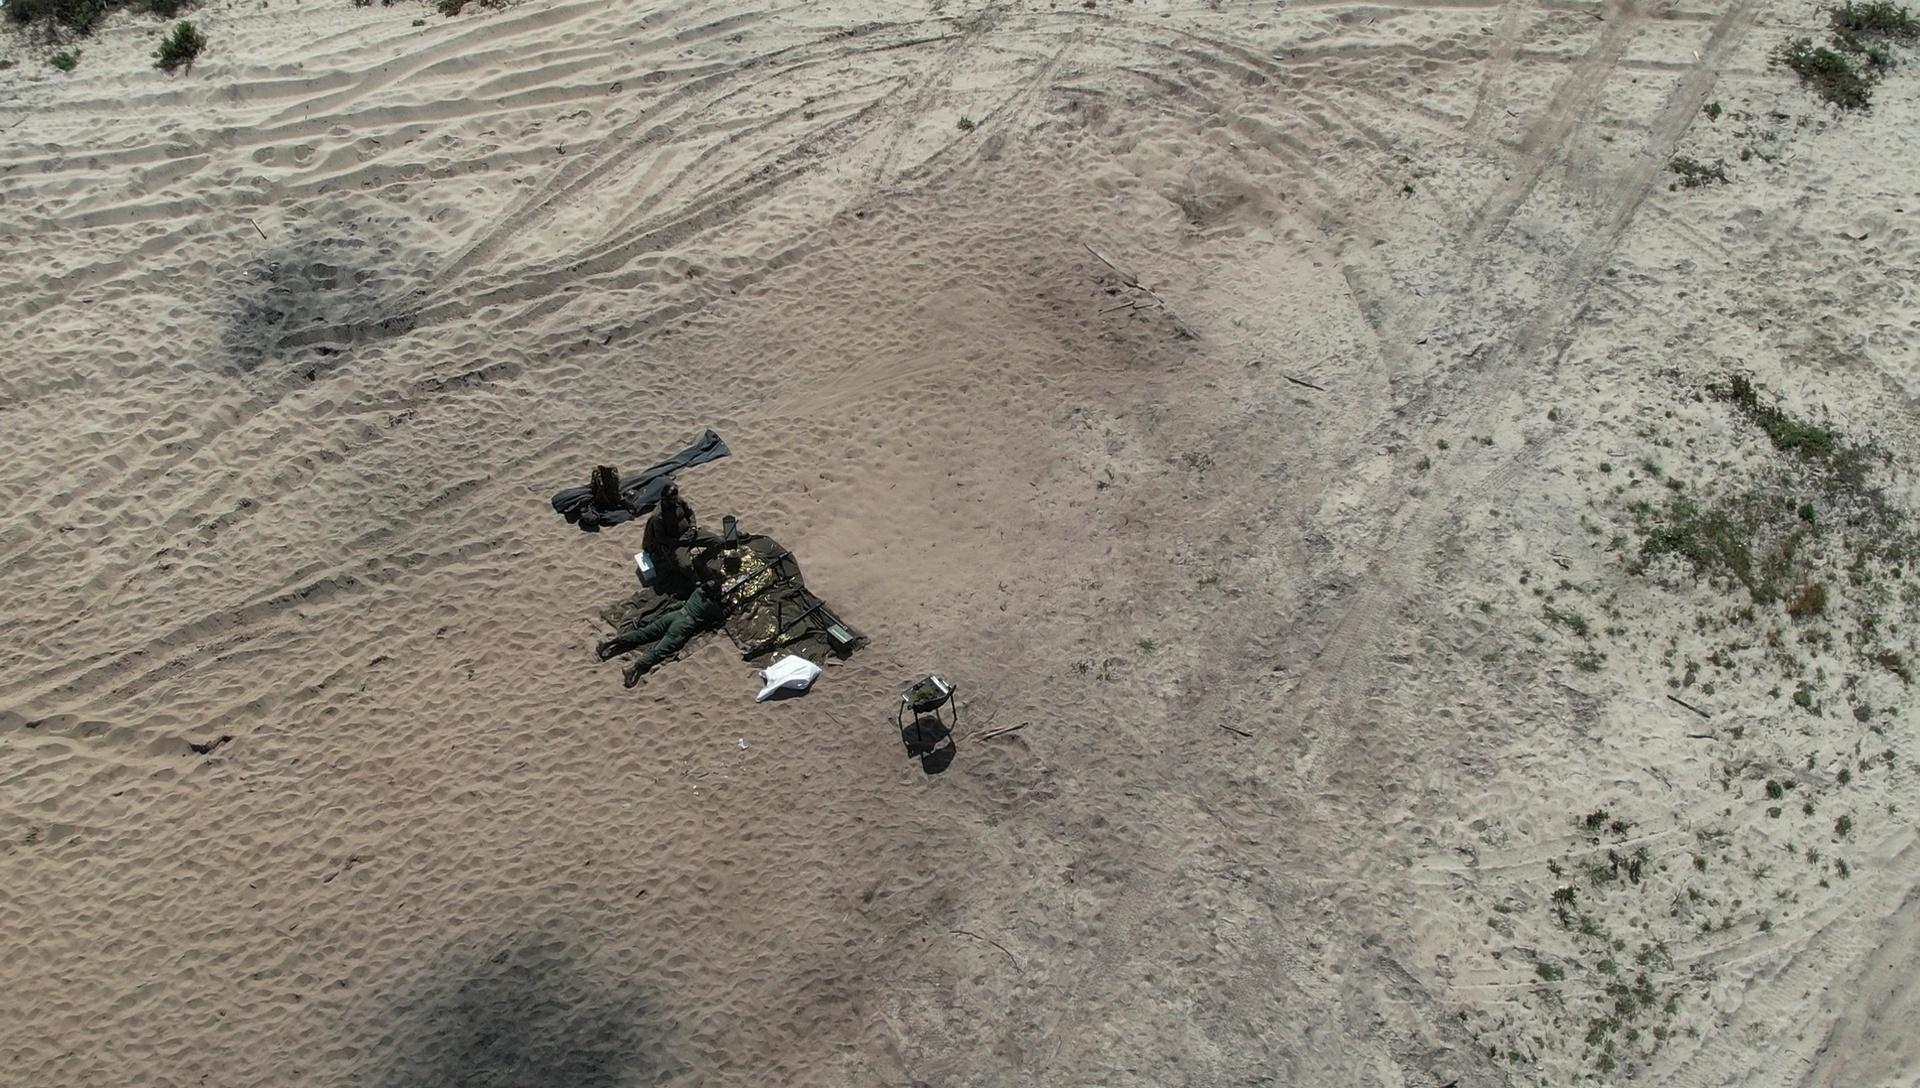Soldier: (607, 558, 756, 679), (640, 492, 731, 612)
